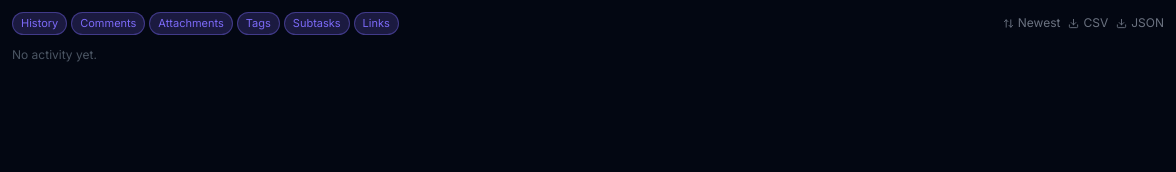
Test: ActivityFeed › sort toggle changes label
Click the button titled "showing newest first" at (1032, 23), box [1003,15,1060,31]
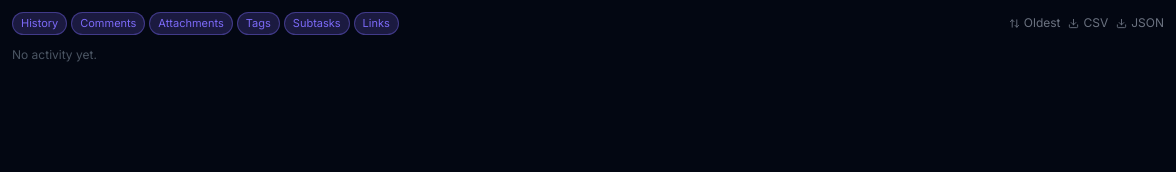
expect the button "Oldest" is shown: met, box [1009,15,1060,31]
